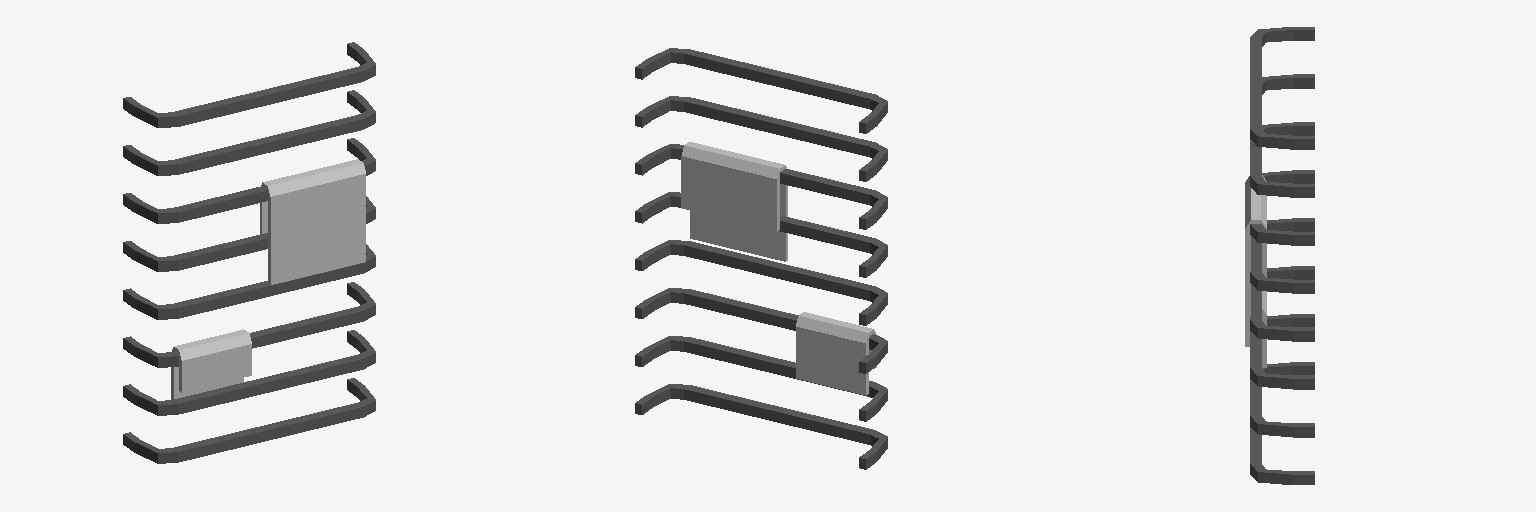
Rendered from towel_rack_1.obj.
3 views of the same model, side by side, from view 1: azimuth 30°, elevation 25°; view 2: azimuth 150°, elevation 25°; view 3: azimuth 270°, elevation 25° (orthographic).
Visible parts, largest first — view 1: towel_rack_1; view 2: towel_rack_1; view 3: towel_rack_1.
Boxes of the visible parts, box(x1,y1,x2,y2) form: towel_rack_1: box(123, 42, 375, 463); towel_rack_1: box(635, 48, 887, 469); towel_rack_1: box(1245, 27, 1314, 484).
Size of the model in its own units: 4.53 by 6.5 by 1.18.